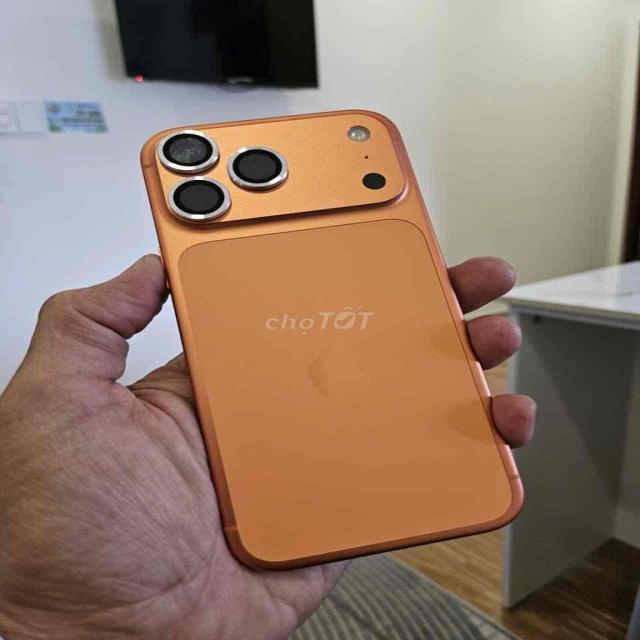scratch: (161, 130, 227, 178)
